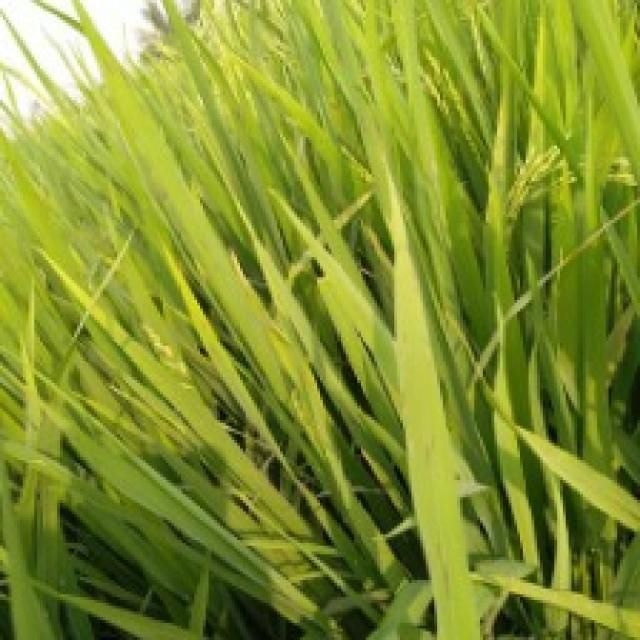Rice___Brown_Spot: (388, 168, 486, 637), (468, 356, 637, 535)
